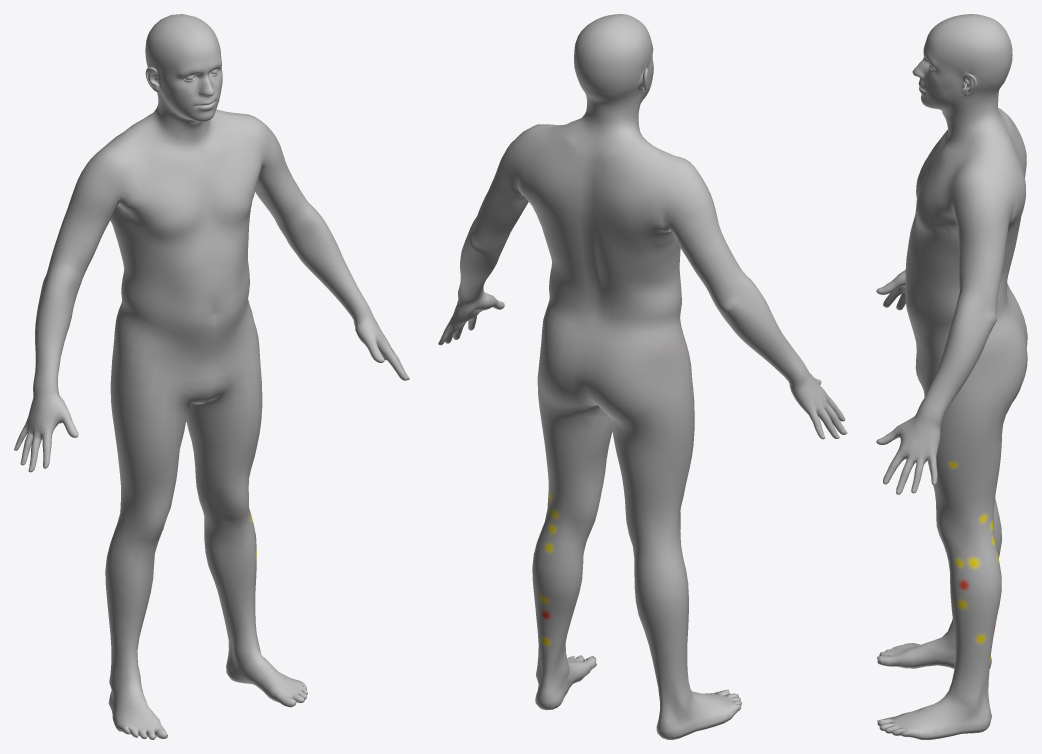
The model's file is 1135018-crossleg-red+yellow.gltf.
The picture shows the model from 3 angles, left to right: view 1: azimuth 30°, elevation 25°; view 2: azimuth 150°, elevation 25°; view 3: azimuth 270°, elevation 25°; orthographic projection. The views are drawn at different scales.
Visible parts, largest first — view 1: Male 68in 160lbs-A-pose; view 2: Male 68in 160lbs-A-pose; view 3: Male 68in 160lbs-A-pose.
Part boxes in pixels (box(x1,y1,x2,y2)): Male 68in 160lbs-A-pose: box(14, 14, 409, 739); Male 68in 160lbs-A-pose: box(438, 14, 847, 739); Male 68in 160lbs-A-pose: box(876, 14, 1027, 739).
Bounding box in the file's own units: 4.32 × 7.33 × 1.47.
Materials: 1 (1 with a texture image).
